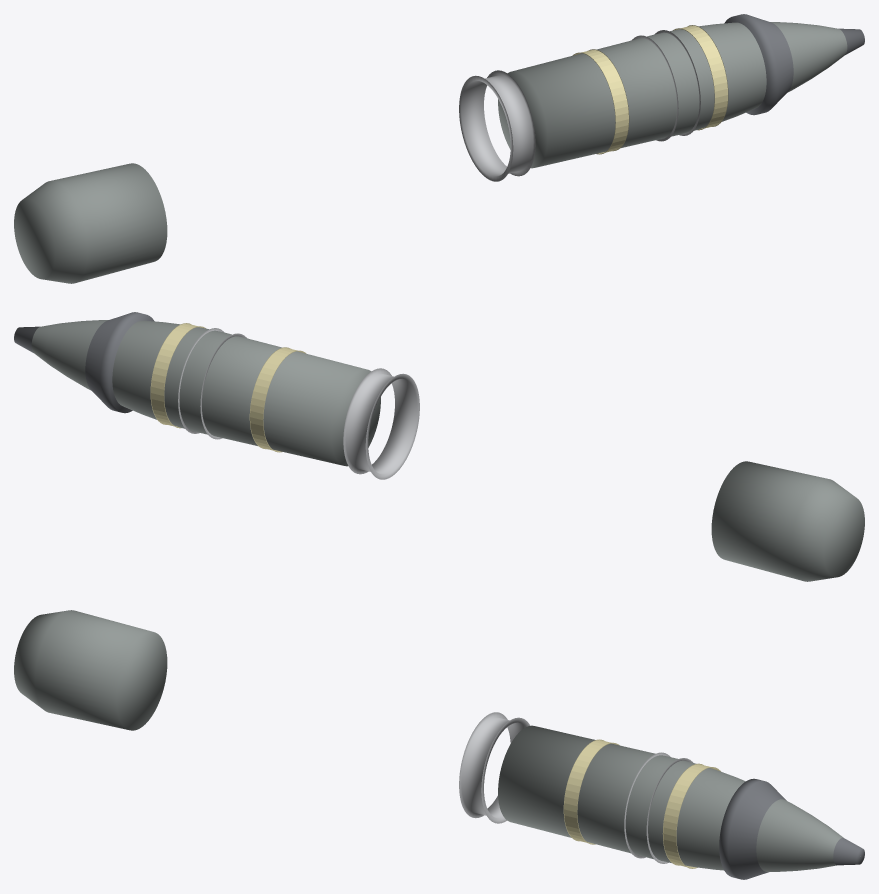
File: IN_SLBM_K4_LOD0.fbx
3 views of the same model, one above another, from view 1: azimuth 30°, elevation 25°; view 2: azimuth 150°, elevation 25°; view 3: azimuth 330°, elevation 25° (orthographic).
Parts seen in each view (by area): view 1: WPN_IN_SLBM_K4_LOD0_Body, WPN_IN_SLBM_K4_LOD0_Tail, WPN_IN_SLBM_K4_LOD0_Detail, WPN_IN_SLBM_K4_LOD0_Marking, WPN_IN_SLBM_K4_LOD0_Nose; view 2: WPN_IN_SLBM_K4_LOD0_Body, WPN_IN_SLBM_K4_LOD0_Tail, WPN_IN_SLBM_K4_LOD0_Detail, WPN_IN_SLBM_K4_LOD0_Marking, WPN_IN_SLBM_K4_LOD0_Nose; view 3: WPN_IN_SLBM_K4_LOD0_Body, WPN_IN_SLBM_K4_LOD0_Tail, WPN_IN_SLBM_K4_LOD0_Nose, WPN_IN_SLBM_K4_LOD0_Detail, WPN_IN_SLBM_K4_LOD0_Marking.
Part boxes in pixels (x1=…): WPN_IN_SLBM_K4_LOD0_Body: x1=498, y1=22, x2=847, y2=168; WPN_IN_SLBM_K4_LOD0_Tail: x1=14, y1=163, x2=167, y2=283; WPN_IN_SLBM_K4_LOD0_Detail: x1=459, y1=30, x2=700, y2=181; WPN_IN_SLBM_K4_LOD0_Marking: x1=572, y1=25, x2=728, y2=154; WPN_IN_SLBM_K4_LOD0_Nose: x1=724, y1=14, x2=864, y2=115; WPN_IN_SLBM_K4_LOD0_Body: x1=31, y1=320, x2=380, y2=466; WPN_IN_SLBM_K4_LOD0_Tail: x1=711, y1=461, x2=864, y2=581; WPN_IN_SLBM_K4_LOD0_Detail: x1=178, y1=328, x2=419, y2=479; WPN_IN_SLBM_K4_LOD0_Marking: x1=150, y1=323, x2=306, y2=452; WPN_IN_SLBM_K4_LOD0_Nose: x1=14, y1=312, x2=154, y2=413; WPN_IN_SLBM_K4_LOD0_Body: x1=498, y1=725, x2=860, y2=871; WPN_IN_SLBM_K4_LOD0_Tail: x1=14, y1=610, x2=167, y2=730; WPN_IN_SLBM_K4_LOD0_Nose: x1=719, y1=778, x2=864, y2=879; WPN_IN_SLBM_K4_LOD0_Detail: x1=459, y1=712, x2=693, y2=863; WPN_IN_SLBM_K4_LOD0_Marking: x1=563, y1=739, x2=720, y2=868.
Bounding box in the file's own units: 12 × 1.37 × 1.37.
